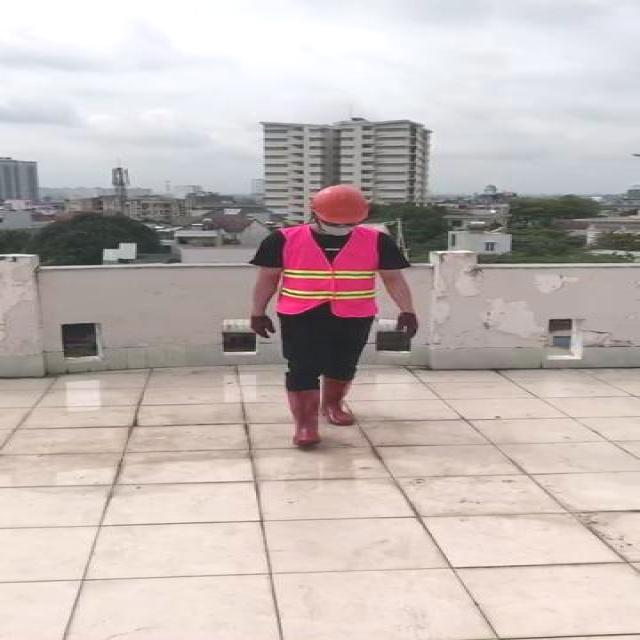boots: (282, 388, 322, 447), (323, 377, 358, 427)
hand_glove: (396, 312, 422, 340), (249, 314, 277, 338)
head_helmet: (309, 183, 372, 226)
person: (241, 182, 424, 454)
vest: (274, 229, 378, 314)
